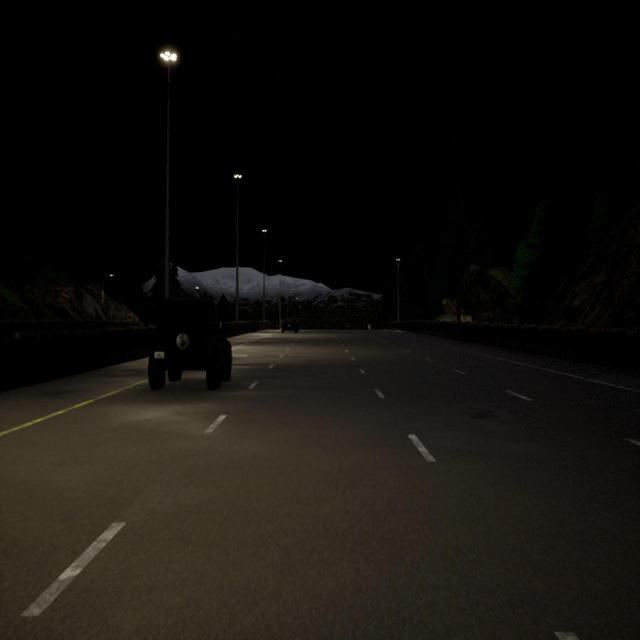Vehicle: (147, 297, 232, 390), (282, 316, 300, 334)
